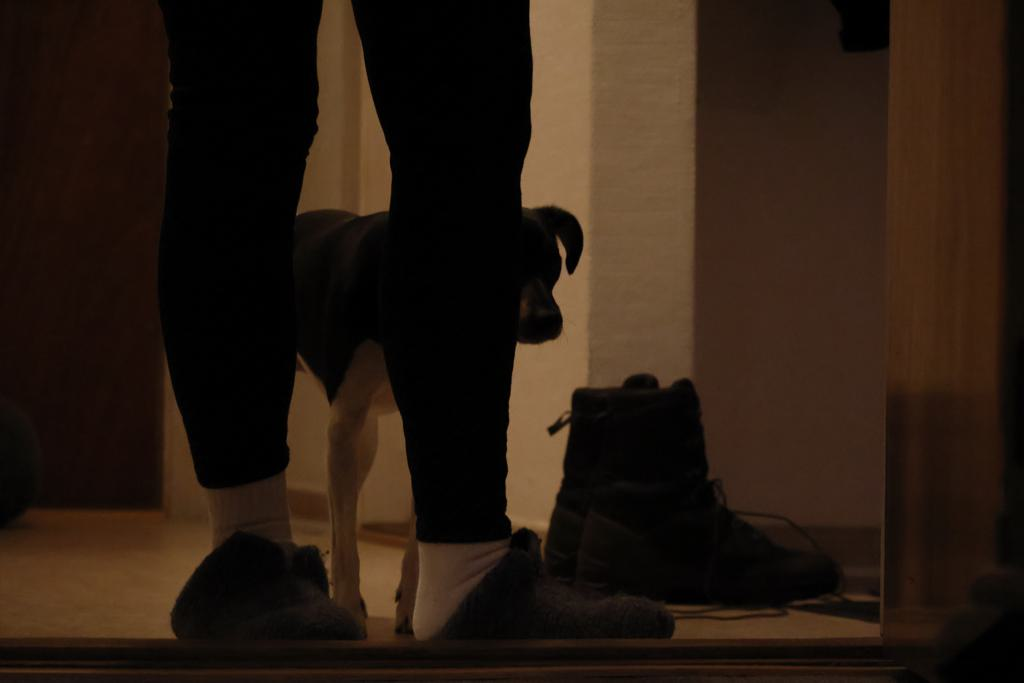Dog: (251, 180, 593, 647)
Humanoid: (140, 0, 685, 654)
